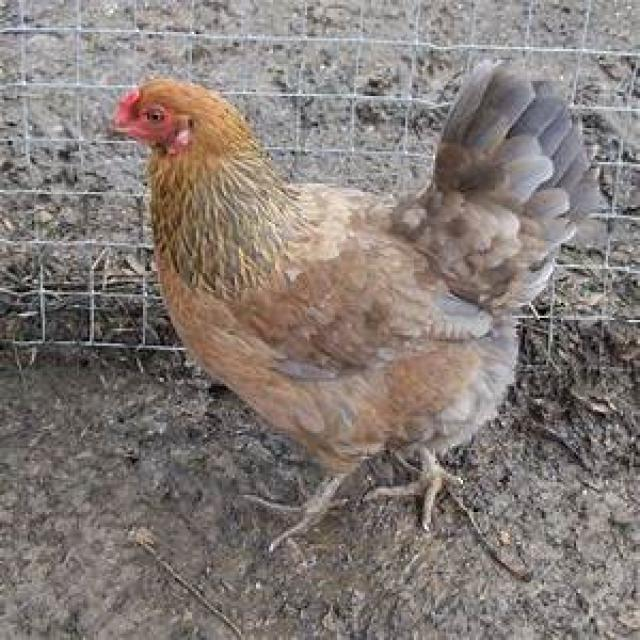hen: (109, 62, 606, 546)
